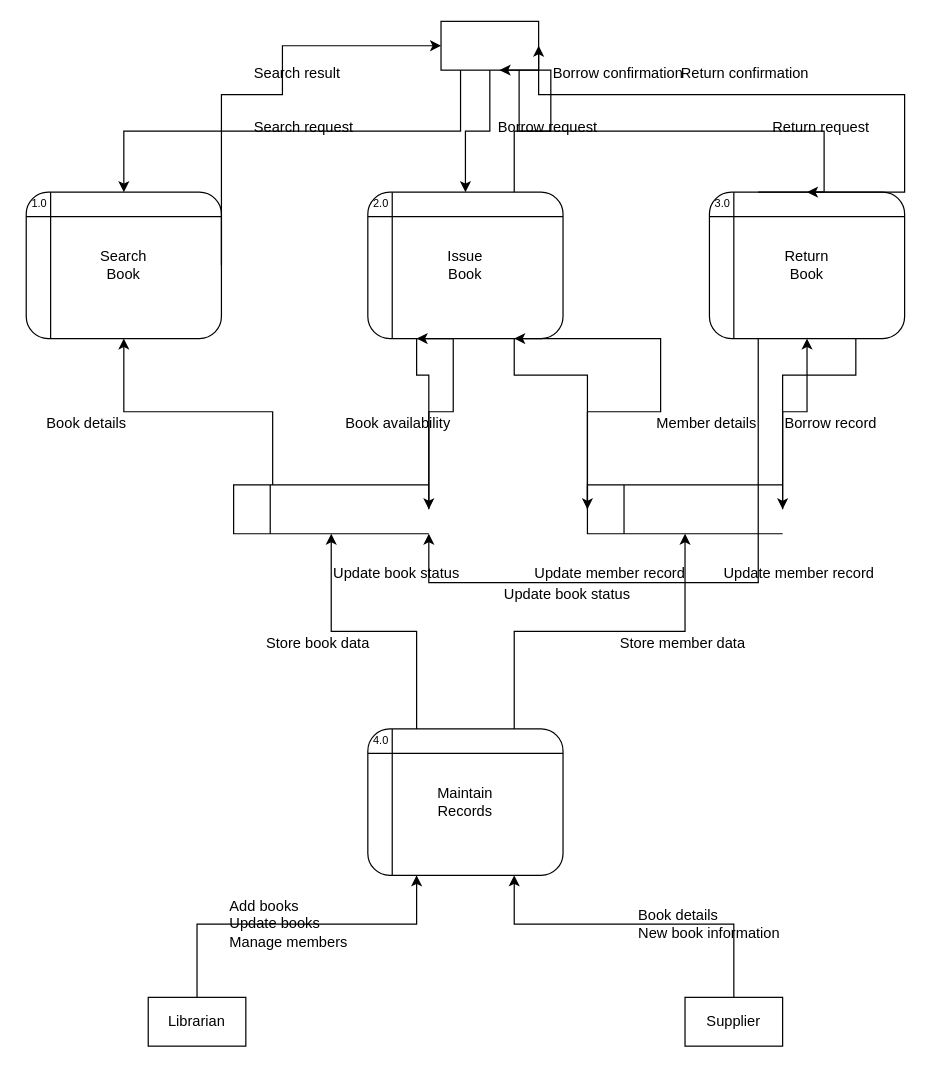
This 936x1068 diagram has some shape labels left out. The centre of each missing label's shape, as x and y in pixels:
"Book" belongs at [330,509].
"Member" belongs at [489,45].
"Member Record" belongs at [684,509].
